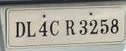character: (64, 19, 75, 36), (15, 20, 25, 38), (26, 20, 36, 38), (49, 20, 59, 36), (109, 18, 119, 34), (38, 20, 47, 37), (78, 19, 87, 36), (99, 18, 108, 35), (89, 18, 98, 34)
